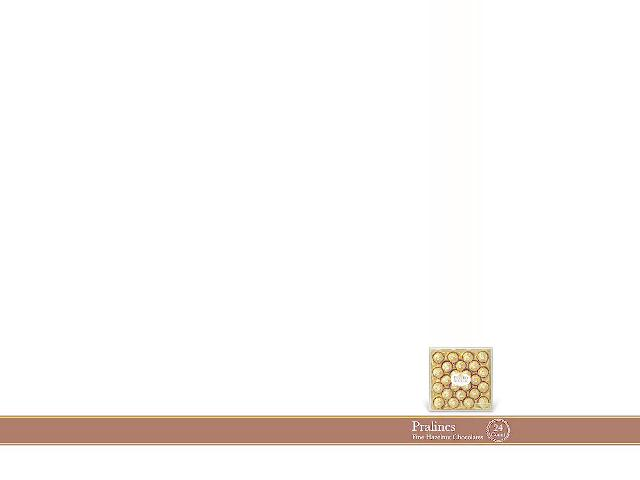chocolate: (426, 342, 497, 415)
